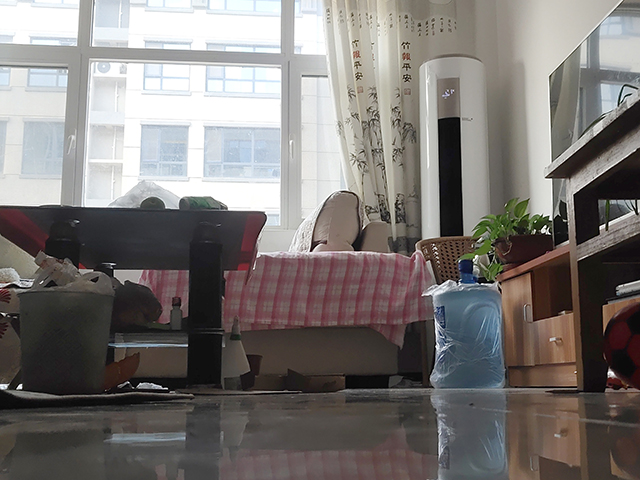cabinet: (493, 250, 571, 389)
carpet: (1, 387, 197, 408)
curtain: (325, 2, 426, 234)
sofa: (1, 237, 436, 391)
table: (1, 204, 269, 396), (542, 87, 640, 394)
trashcan: (14, 284, 119, 397)
